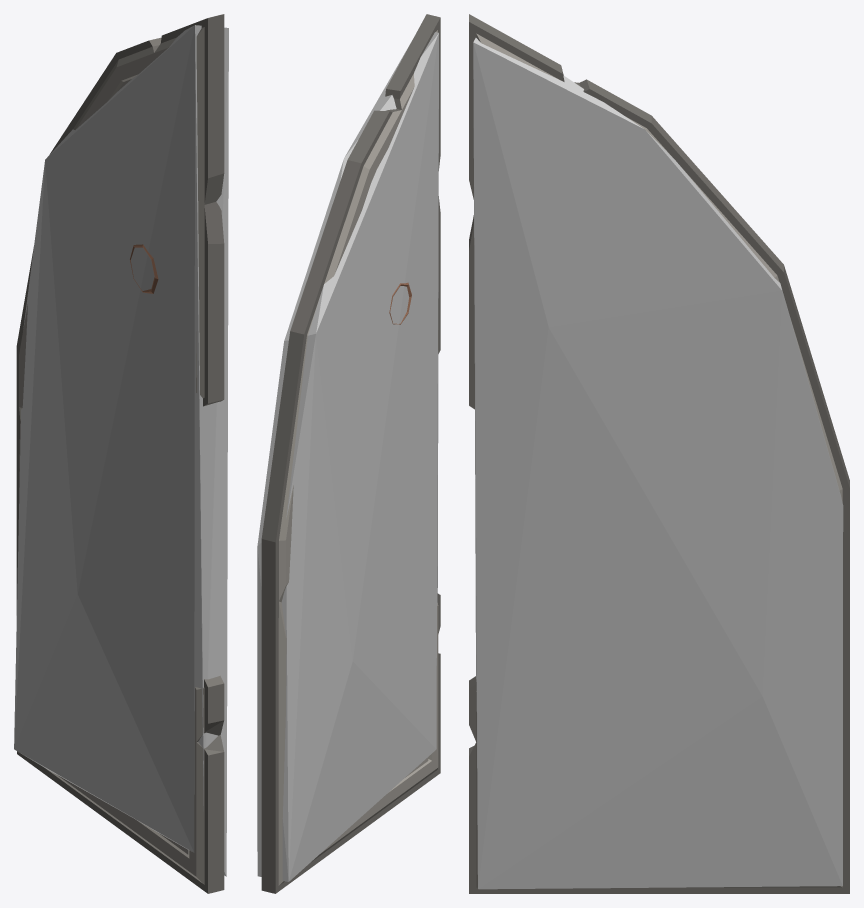
Rendered from SM_Bld_Double_Door_Left_01.fbx.
3 views of the same model, side by side, from view 1: azimuth 30°, elevation 25°; view 2: azimuth 150°, elevation 25°; view 3: azimuth 270°, elevation 25° (orthographic). The views are drawn at different scales.
Parts seen in each view (by area): view 1: SM_Bld_Double_Door_Left_01_ConvexHulls, SM_Bld_Double_Door_Left_01; view 2: SM_Bld_Double_Door_Left_01_ConvexHulls, SM_Bld_Double_Door_Left_01; view 3: SM_Bld_Double_Door_Left_01_ConvexHulls, SM_Bld_Double_Door_Left_01.
Part boxes in pixels (box(x1,y1,x2,y2)): SM_Bld_Double_Door_Left_01_ConvexHulls: box(14, 25, 228, 876); SM_Bld_Double_Door_Left_01: box(16, 14, 224, 893); SM_Bld_Double_Door_Left_01_ConvexHulls: box(257, 32, 438, 881); SM_Bld_Double_Door_Left_01: box(261, 14, 440, 893); SM_Bld_Double_Door_Left_01_ConvexHulls: box(473, 38, 843, 889); SM_Bld_Double_Door_Left_01: box(469, 14, 849, 893).
Bounding box in the file's own units: 13.43 × 103 × 260.
Materials: 2 (1 with a texture image).
